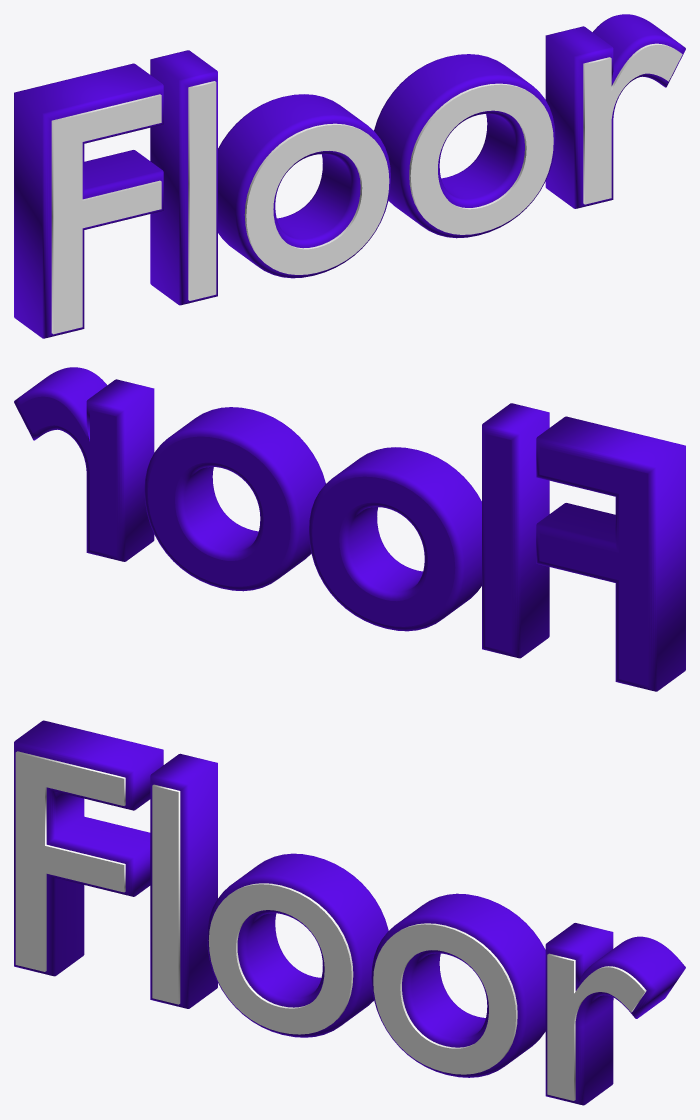
File: floor.fbx
The picture shows the model from 3 angles, top to bottom: view 1: azimuth 30°, elevation 25°; view 2: azimuth 150°, elevation 25°; view 3: azimuth 330°, elevation 25°; orthographic projection.
Parts seen in each view (by area): view 1: Text, Text.001; view 2: Text; view 3: Text, Text.001.
Boxes of the visible parts, x1,y1,x2,y2 form: Text: (14, 14, 685, 338); Text.001: (51, 43, 682, 334); Text: (14, 367, 685, 691); Text: (14, 720, 685, 1105); Text.001: (15, 751, 646, 1100).
Size of the model in its own units: 216 by 73.1 by 20.92.
